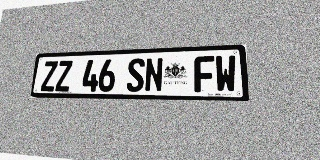4: (82, 60, 100, 92)
6: (98, 59, 116, 92)
F: (194, 56, 215, 92)
N: (144, 57, 163, 92)
S: (126, 58, 145, 92)
W: (215, 55, 237, 93)
Z: (55, 60, 73, 91), (40, 61, 58, 91)
